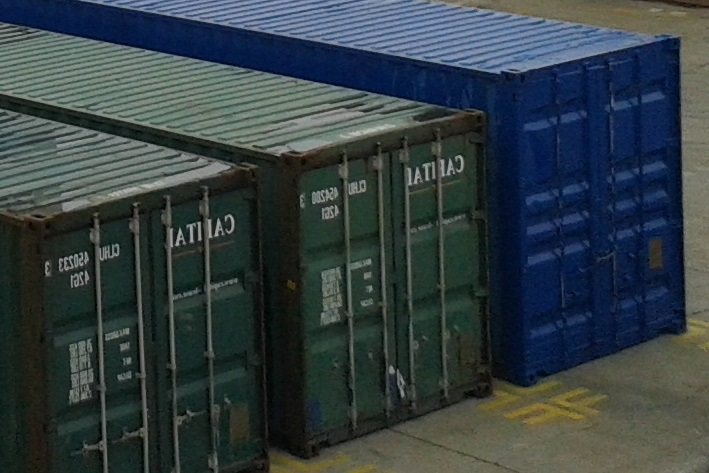container_door: (30, 164, 265, 473), (289, 110, 490, 454), (507, 34, 687, 387)
